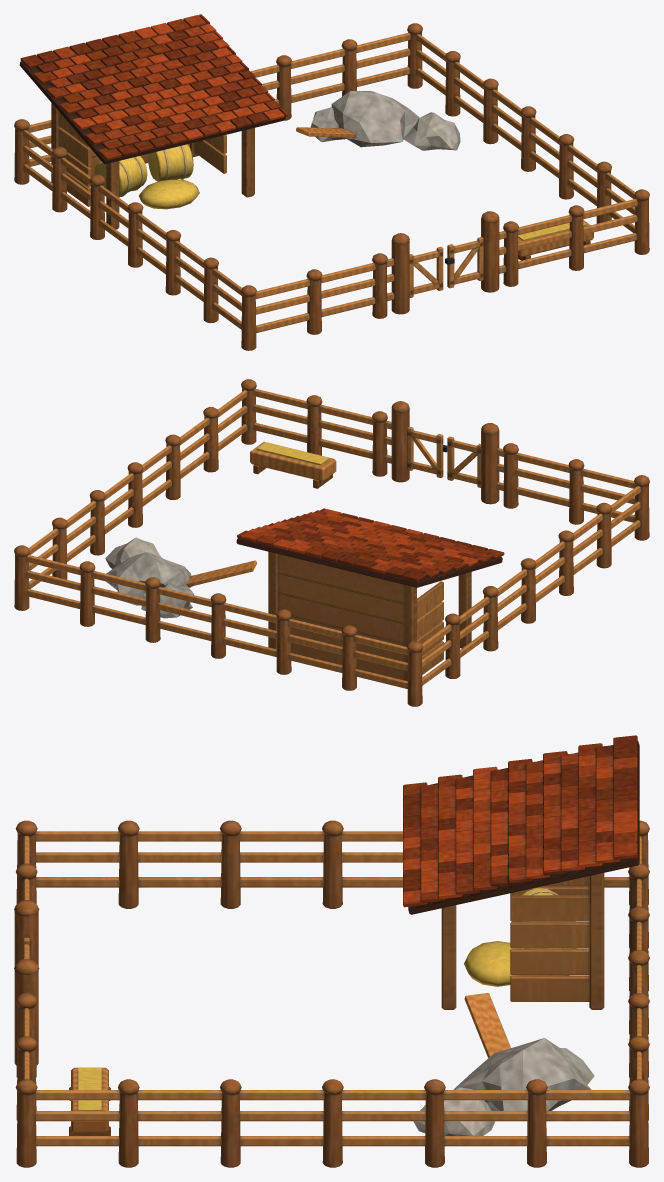
The model's file is boer_yard.glb.
3 views of the same model, one above another, from view 1: azimuth 30°, elevation 25°; view 2: azimuth 150°, elevation 25°; view 3: azimuth 270°, elevation 25° (orthographic). The views are drawn at different scales.
Parts seen in each view (by area): view 1: boer_yard, gate1, gate0; view 2: boer_yard, gate1, gate0; view 3: boer_yard.
Part boxes in pixels (box(x1,y1,x2,y2)): boer_yard: box(14, 14, 649, 350); gate1: box(445, 236, 483, 288); gate0: box(409, 246, 443, 297); boer_yard: box(14, 379, 649, 706); gate1: box(407, 426, 447, 477); gate0: box(447, 436, 480, 487); boer_yard: box(14, 735, 649, 1167).
Size of the model in its own units: 3 by 0.9345 by 3.01.
Materials: 1 (1 with a texture image).
